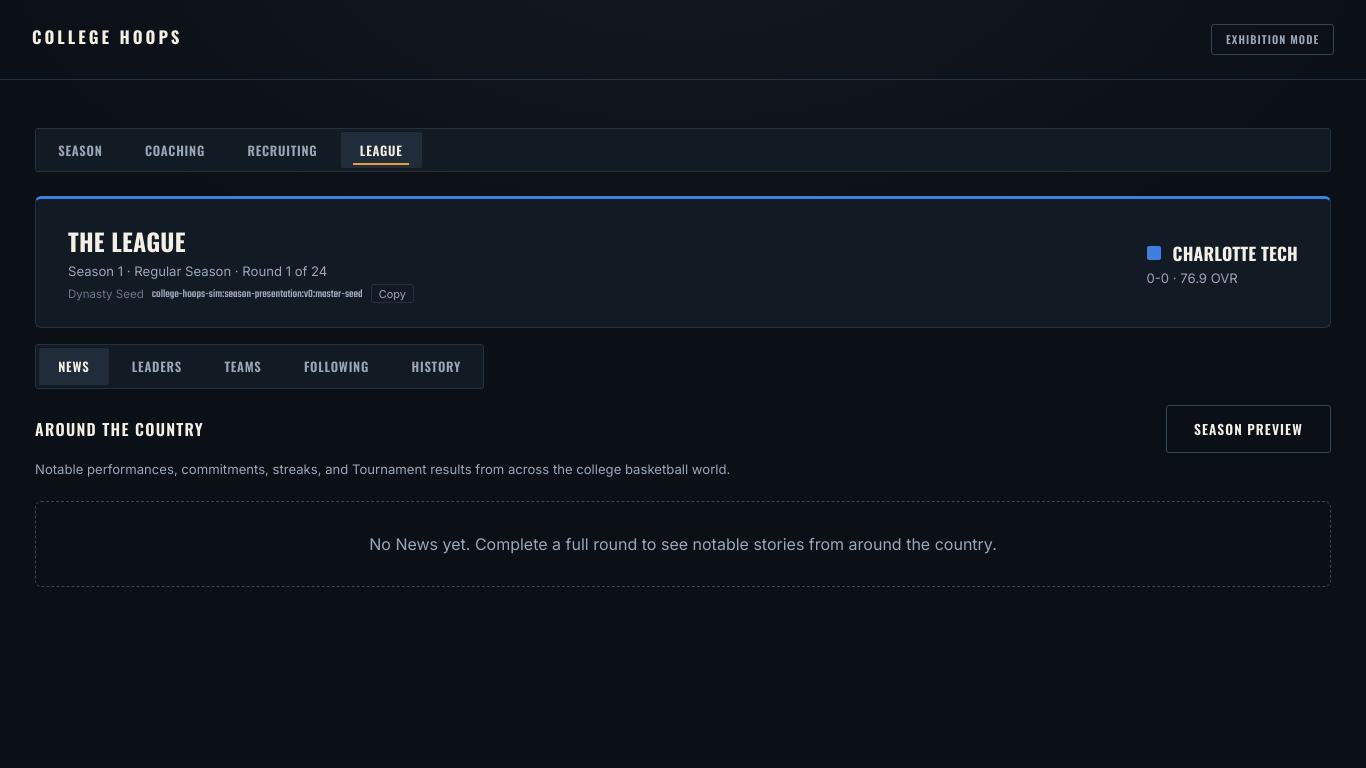
Test: League — Following › shows a graceful message when every followed Player is unresolved
Click the button "Following" at coordinates (336, 367), box top-left (285, 348), bottom-right (388, 385)
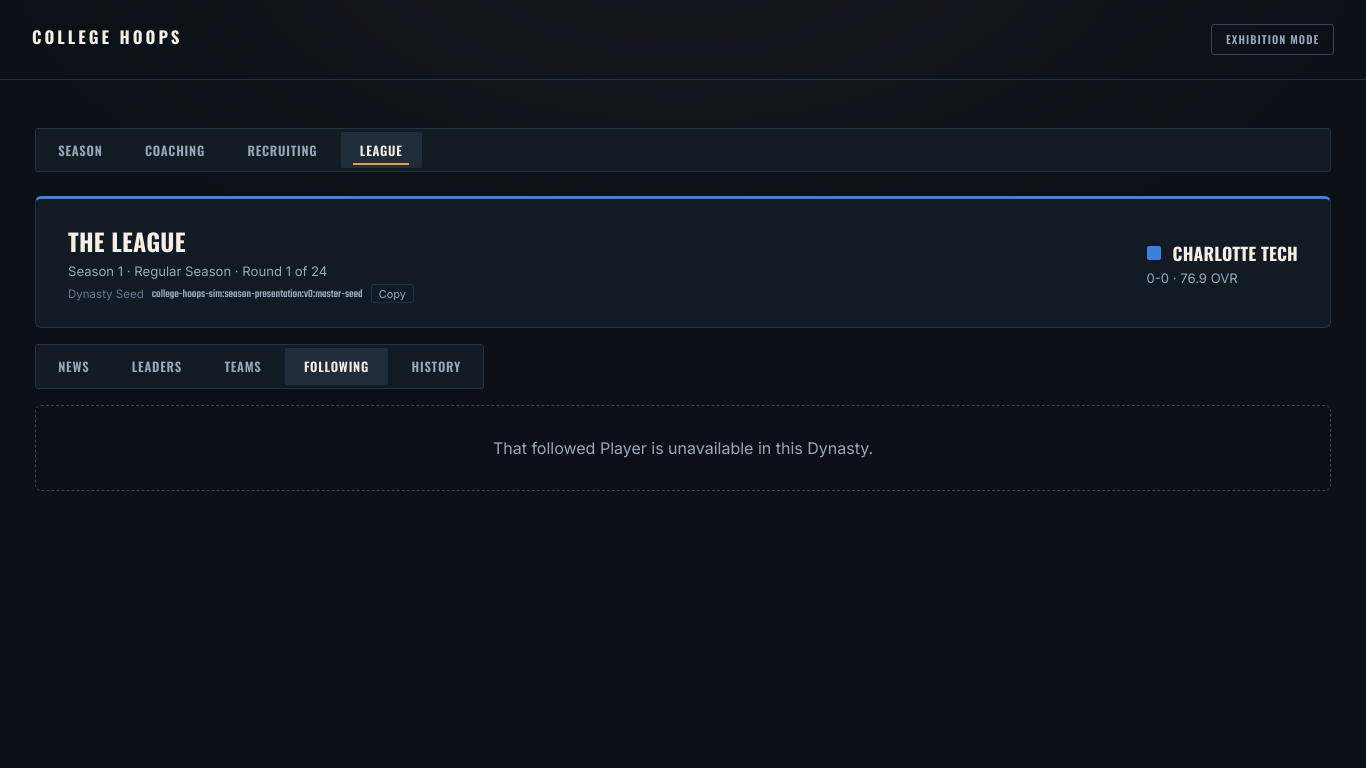
Result: the text "That followed Player is unavailable in this Dynasty." is shown at top-left (35, 405), bottom-right (1331, 491)
